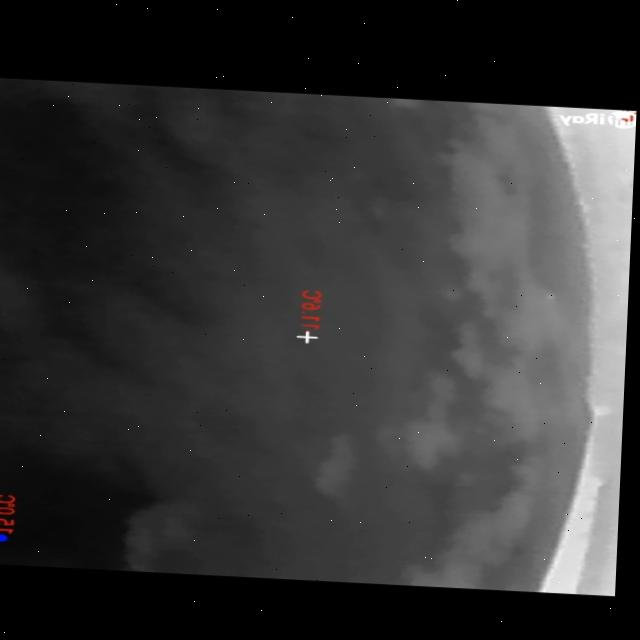drone: (547, 286, 559, 295)
